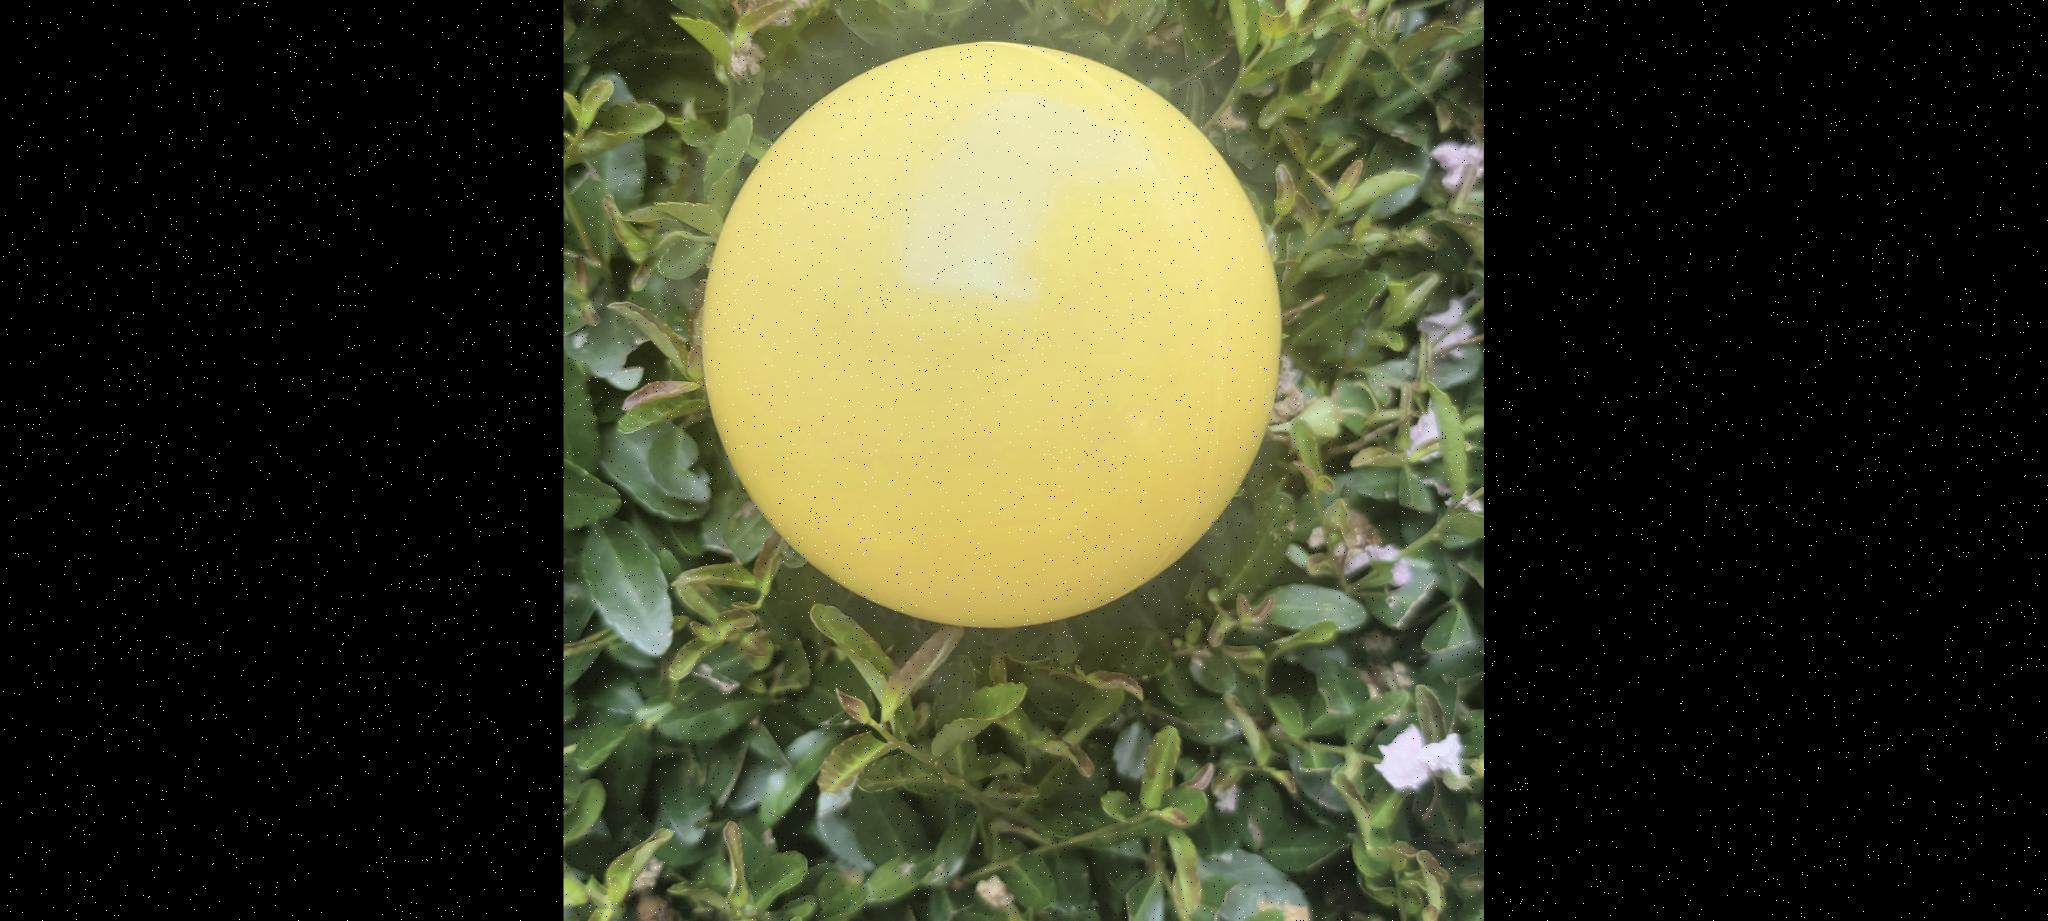Yellow-Ball: (769, 295, 1344, 882)
